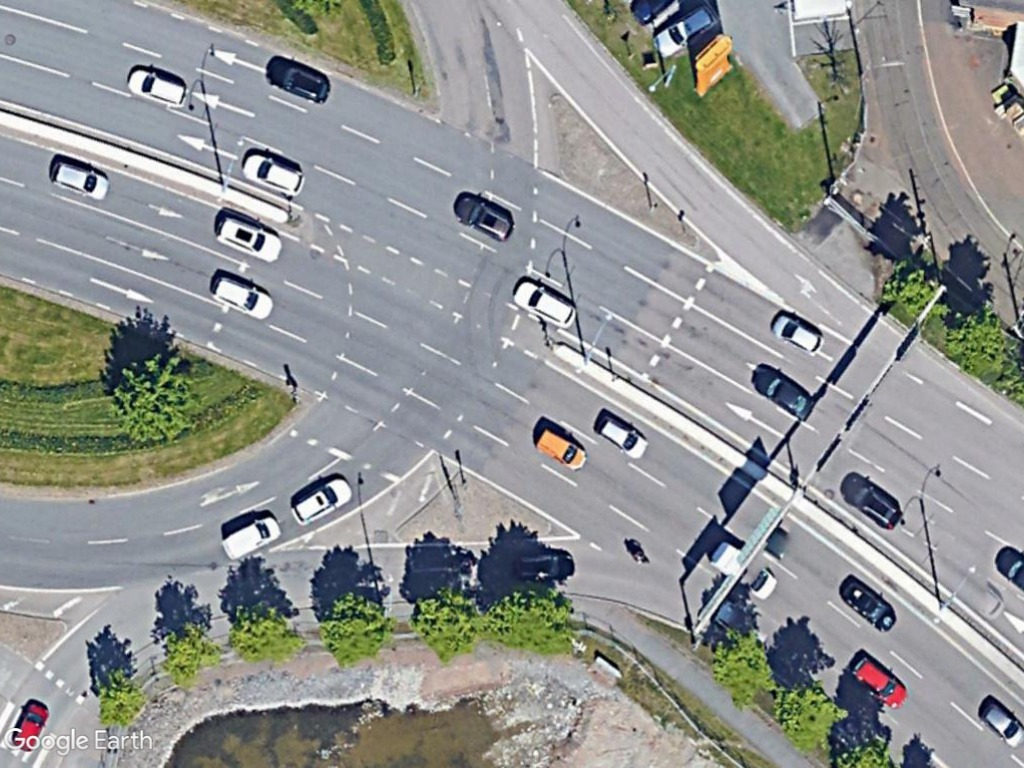car: (210, 210, 288, 269), (509, 275, 582, 336), (848, 647, 910, 717), (261, 52, 338, 107), (286, 471, 357, 530), (841, 473, 907, 535), (205, 270, 277, 326), (453, 191, 522, 249), (237, 148, 311, 200), (752, 363, 817, 422), (837, 576, 901, 634), (44, 158, 117, 206), (124, 64, 194, 113), (590, 406, 652, 461), (769, 310, 831, 360), (535, 424, 592, 476), (978, 700, 1024, 755), (6, 696, 50, 753)
van: (219, 508, 285, 565)
